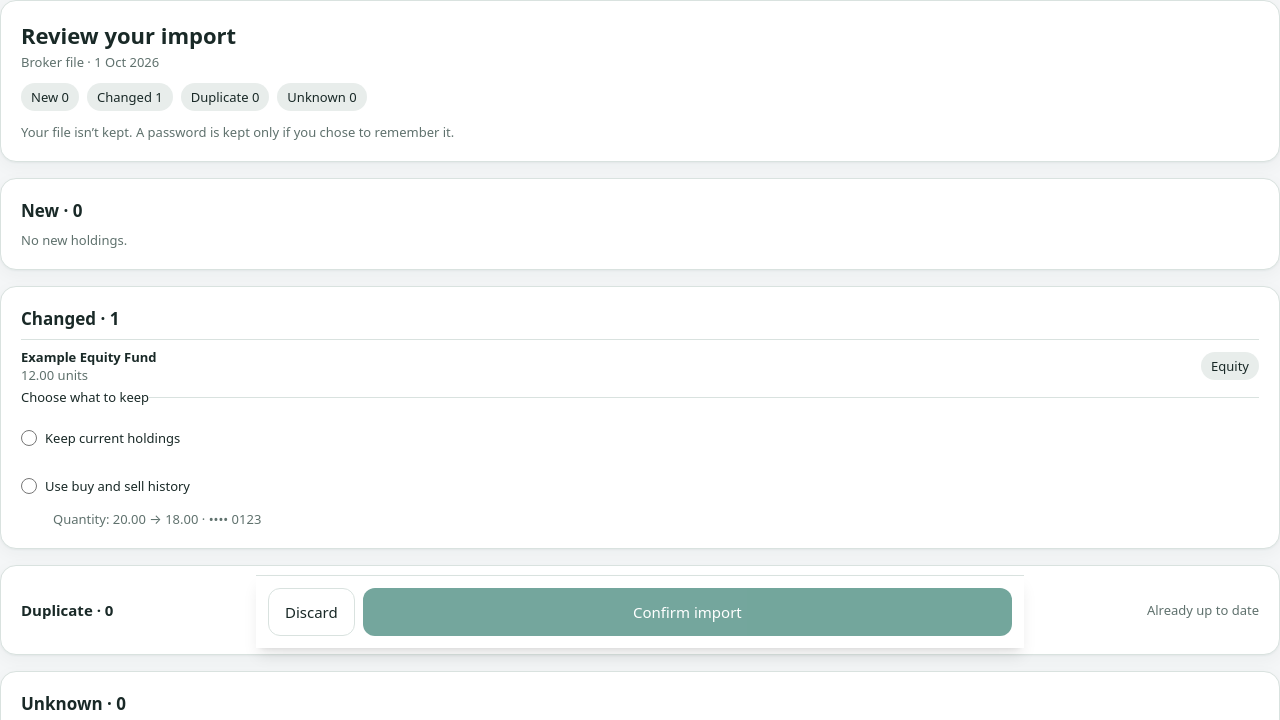
Test: statement import review › requires an explicit choice when holdings and trade history differ
Expected: the button "Confirm import" is disabled, [363,588,1012,636]
Step 1. Click the radio button labelled "Keep current holdings" → (29, 438), box [21,430,37,446]
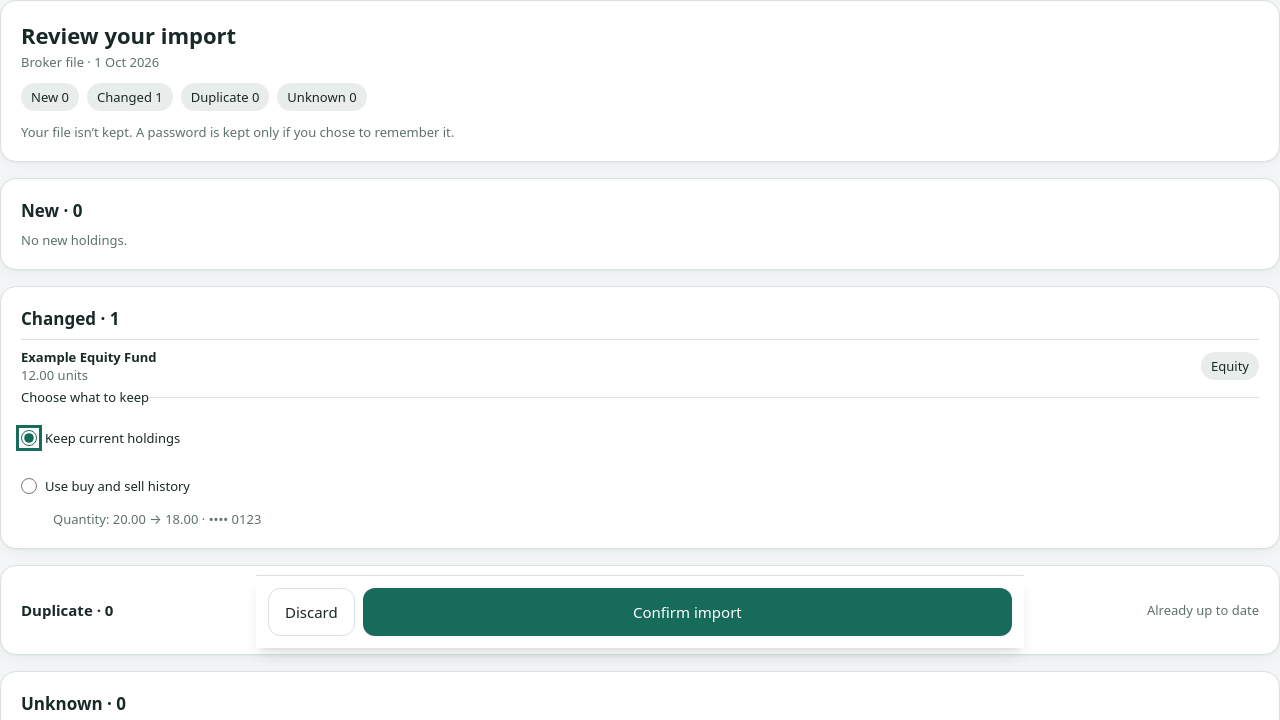
Expected: the button "Confirm import" is enabled
Step 2. Click the button "Confirm import" → (687, 612), box [363,588,1012,636]
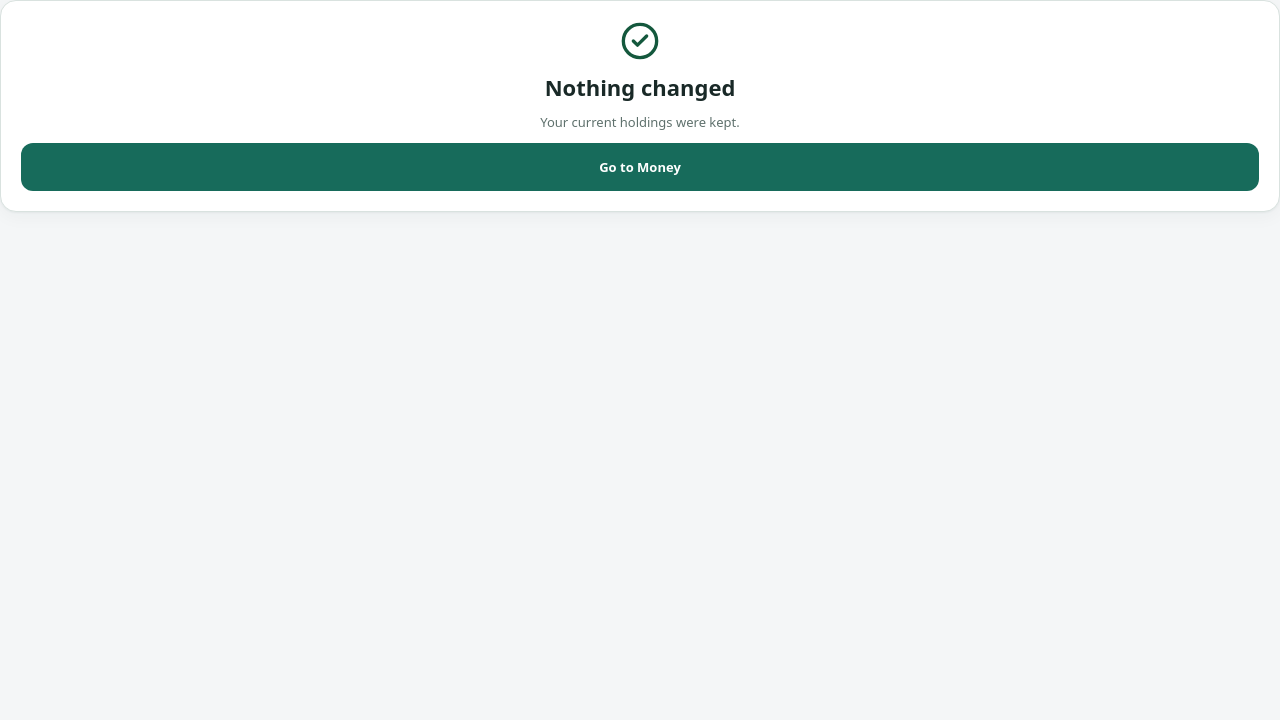
Expected: the heading "Nothing changed" is shown, [545,72,735,102]
